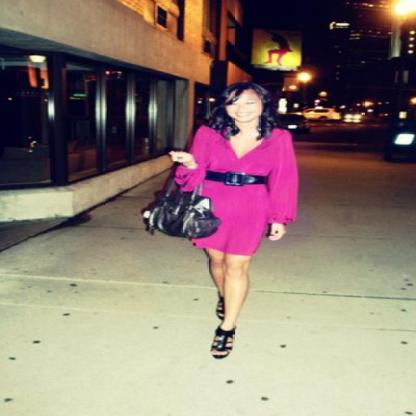bag: (142, 184, 220, 240)
dress: (175, 126, 297, 255)
shoe: (212, 325, 235, 351)
